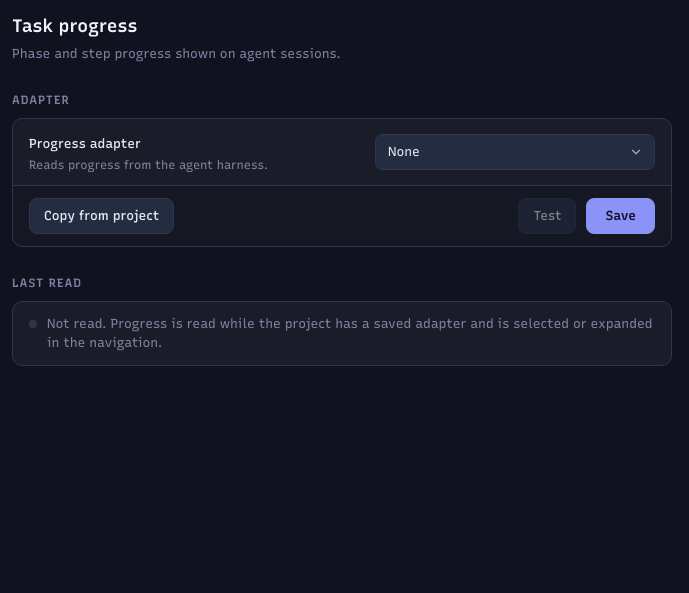
TaskProgressSettings › Save stores the adapter id and values
The width and height of the screenshot is (689, 593).
Select "Example · example" in the dropdown with test id "settings-task-progress-adapter-select": [515, 152] box [375, 134, 655, 170]
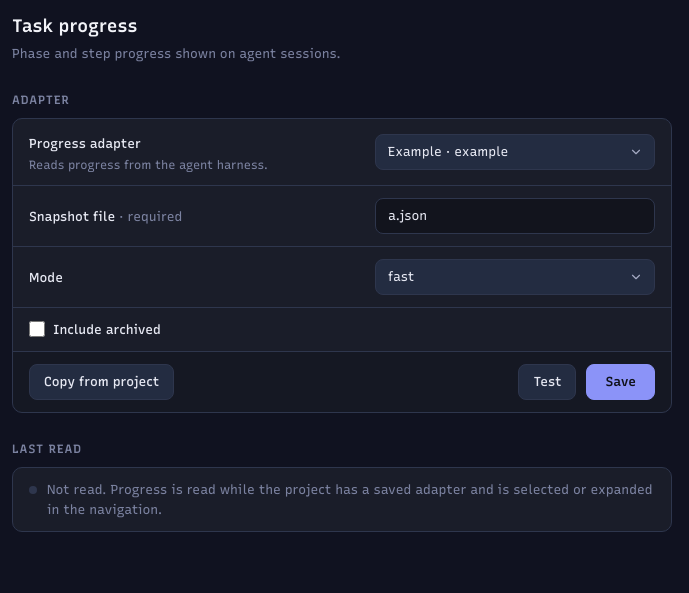
Click the checkbox labelled "Include archived": [37, 329] box [29, 321, 45, 337]
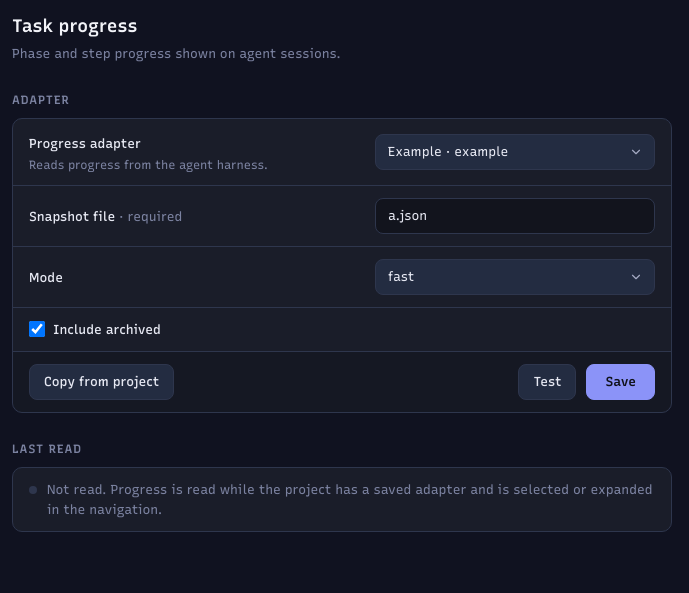
Click the button with test id "settings-task-progress-save": [621, 382] box [586, 364, 655, 400]
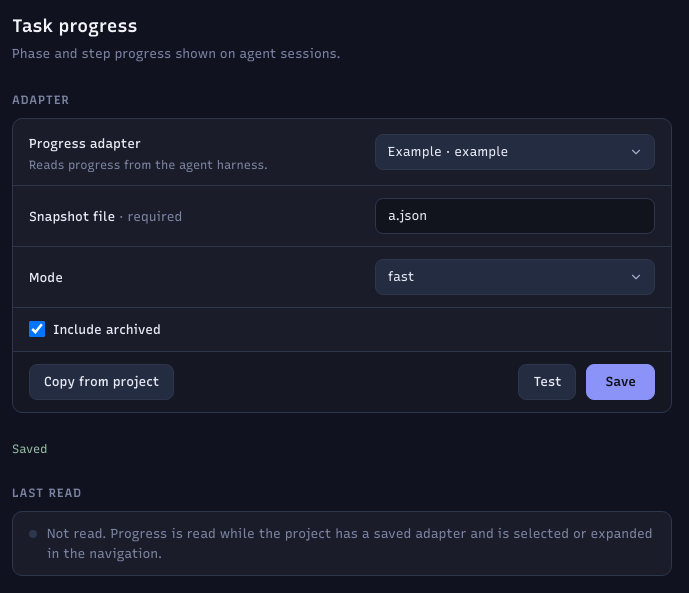
Expected: the text "Saved" is shown, [12, 442, 47, 456]
